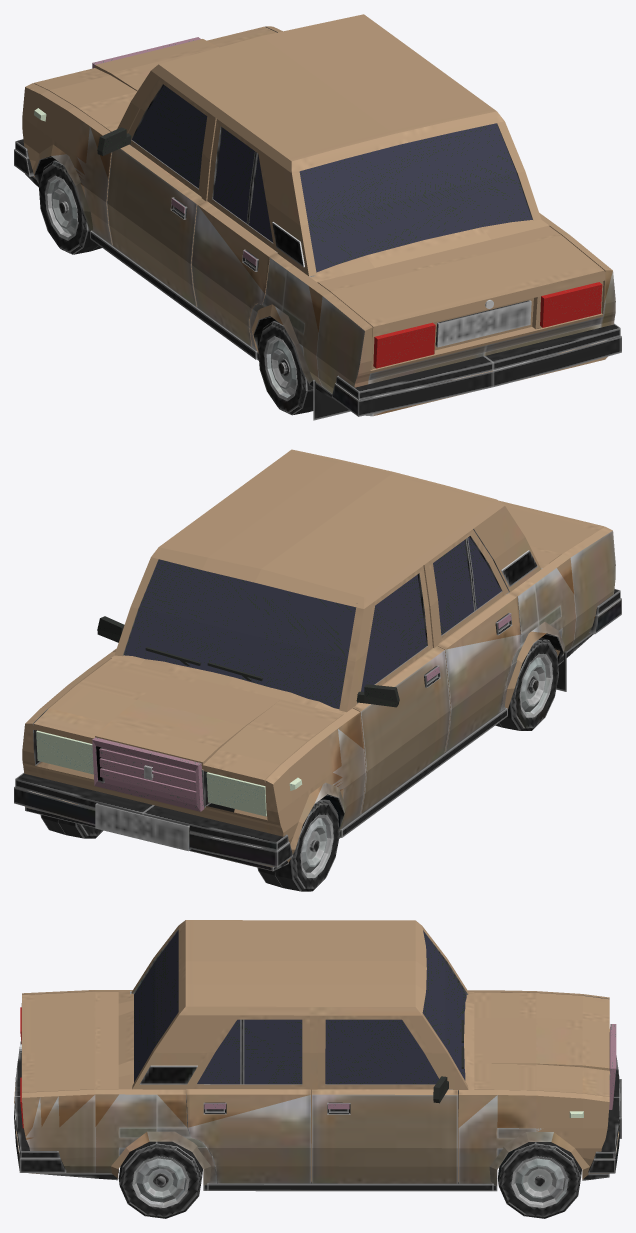
File: lada2107.glb
3 renders of one model, top to bottom at view 1: azimuth 30°, elevation 25°; view 2: azimuth 150°, elevation 25°; view 3: azimuth 270°, elevation 25°, orthographic. The views are drawn at different scales.
Visible parts, largest first — view 1: body, wheel_RL, wheel_FL; view 2: body, wheel_FL, wheel_RL, wheel_FR; view 3: body, wheel_FR, wheel_RR.
Boxes of the visible parts, x1,y1,x2,y2 form: body: (14,14,621,416); wheel_RL: (258,320,350,420); wheel_FL: (39,160,101,254); body: (14,449,621,871); wheel_FL: (257,798,339,891); wheel_RL: (495,637,566,730); wheel_FR: (40,815,103,838); body: (14,920,621,1191); wheel_FR: (498,1142,581,1218); wheel_RR: (118,1141,202,1218).
Bounding box in the file's own units: 2.04 × 1.54 × 4.13.
Materials: 3 (3 with a texture image).
